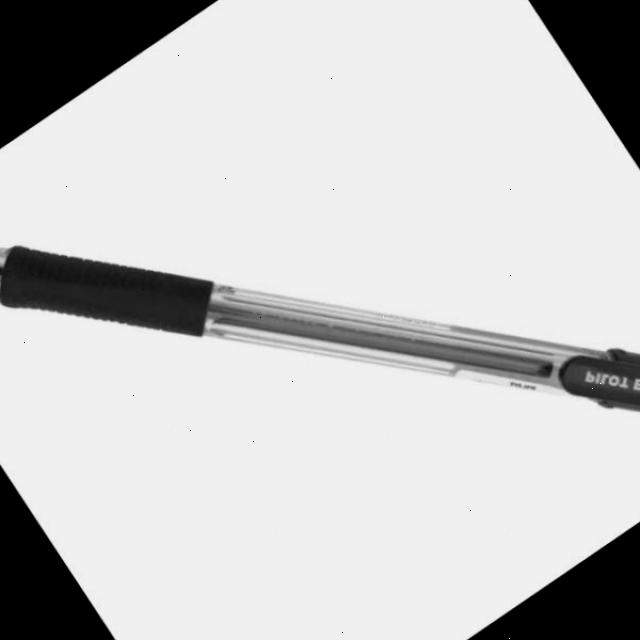pencil: (0, 242, 640, 415)
